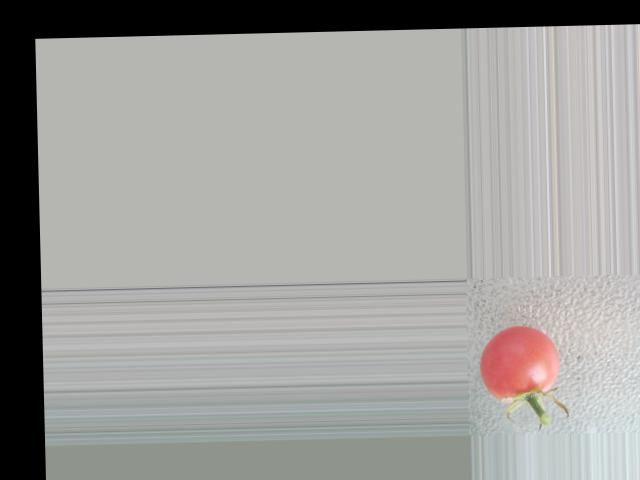tomato: (480, 324, 562, 399)
